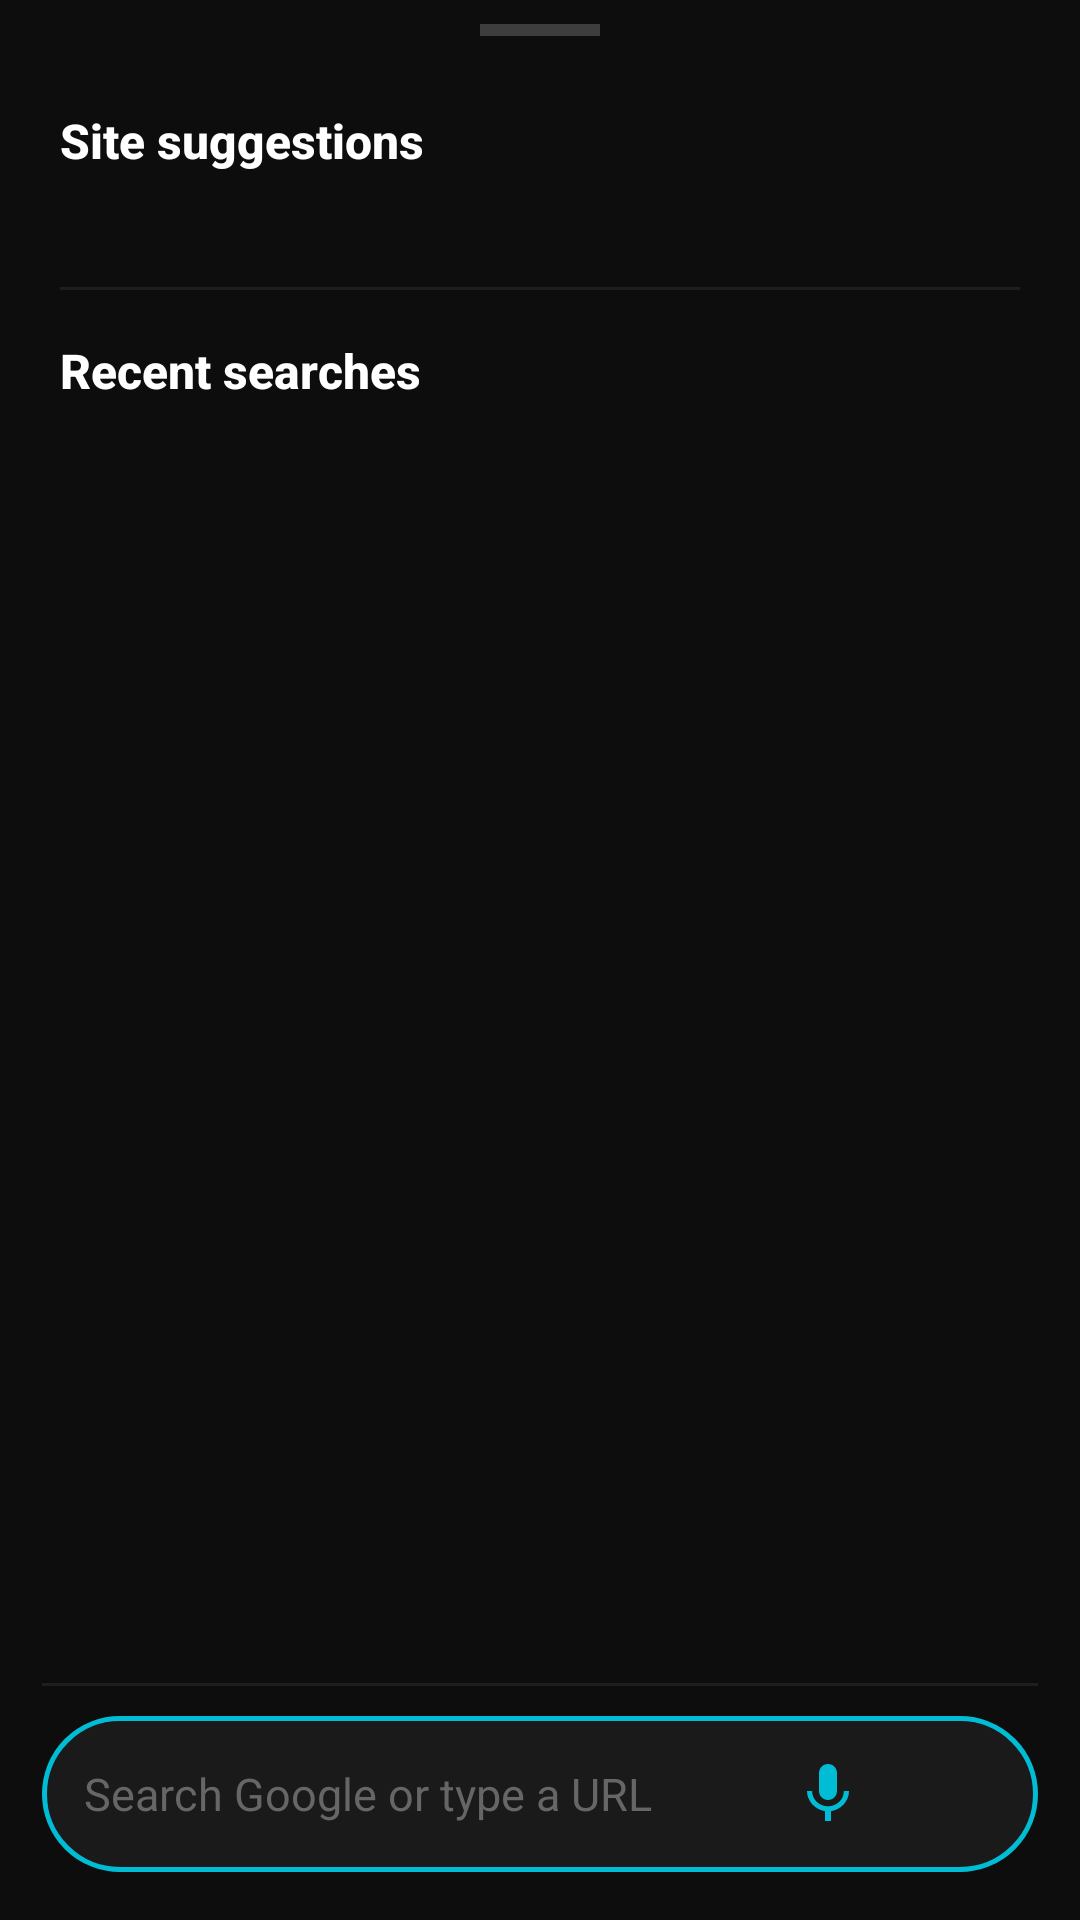

Point at icon controls on the screen. Image size 1080px x 1920px, points as (x=x, y=y).
Voice search: (x=828, y=1792)
